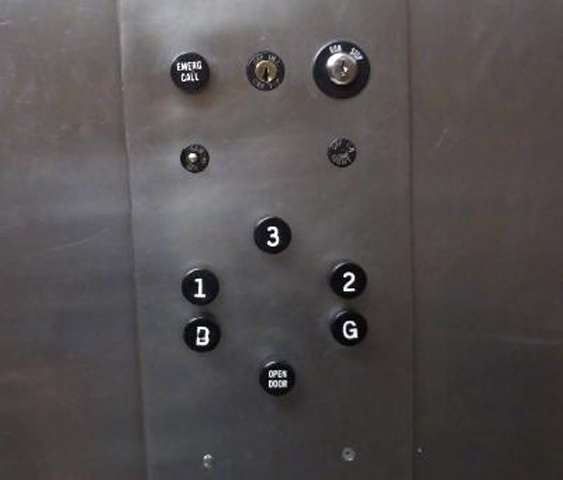1: (179, 264, 221, 306)
2: (328, 259, 369, 299)
3: (251, 213, 293, 255)
B: (181, 313, 222, 354)
G: (329, 306, 370, 347)
indicator: (325, 134, 358, 168), (178, 141, 212, 174)
keyhole: (308, 38, 373, 99), (244, 48, 287, 91)
text_CALL: (167, 48, 212, 92)
text_open: (259, 358, 296, 397)
